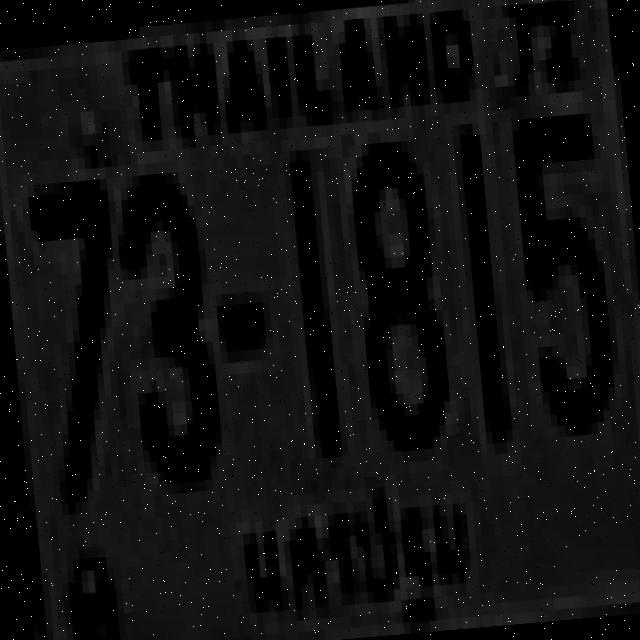1: (452, 128, 506, 438), (286, 154, 338, 452)
3: (111, 165, 218, 479)
5: (511, 107, 616, 421)
7: (27, 179, 126, 493), (27, 178, 121, 436)
8: (348, 139, 446, 441)
NakhonPathom: (225, 468, 476, 640)
